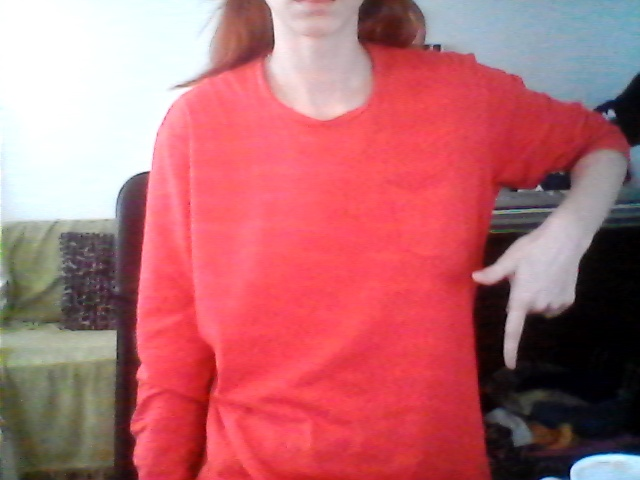policia: (459, 243, 592, 382)
